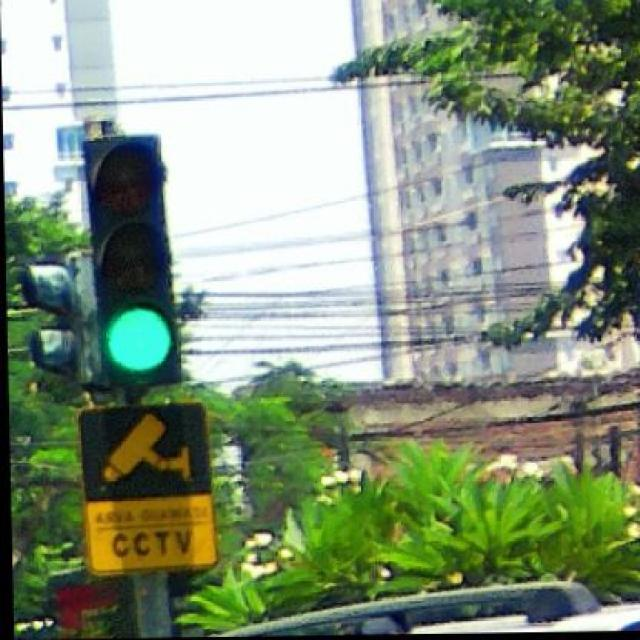traffic light: (82, 133, 182, 390), (78, 402, 218, 577), (78, 403, 212, 502), (21, 261, 81, 382)
